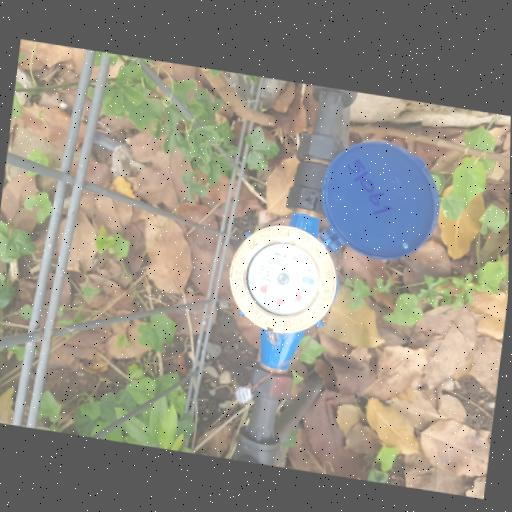0: (268, 256, 275, 267), (276, 258, 283, 269), (283, 259, 290, 270)
1: (290, 261, 298, 273), (298, 263, 305, 275)
border_water_meter_number: (267, 254, 308, 276)
